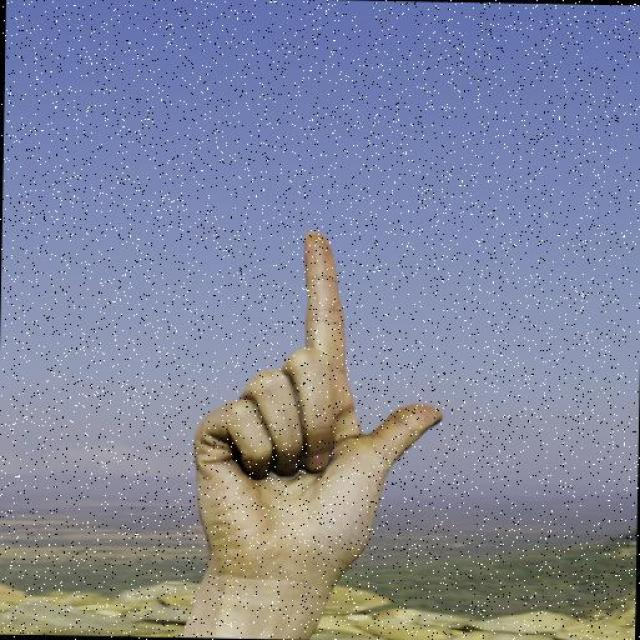L: (152, 206, 472, 625)
